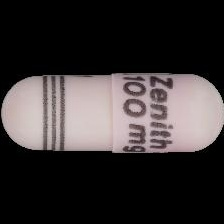0440-1866: (0, 0, 224, 224)
